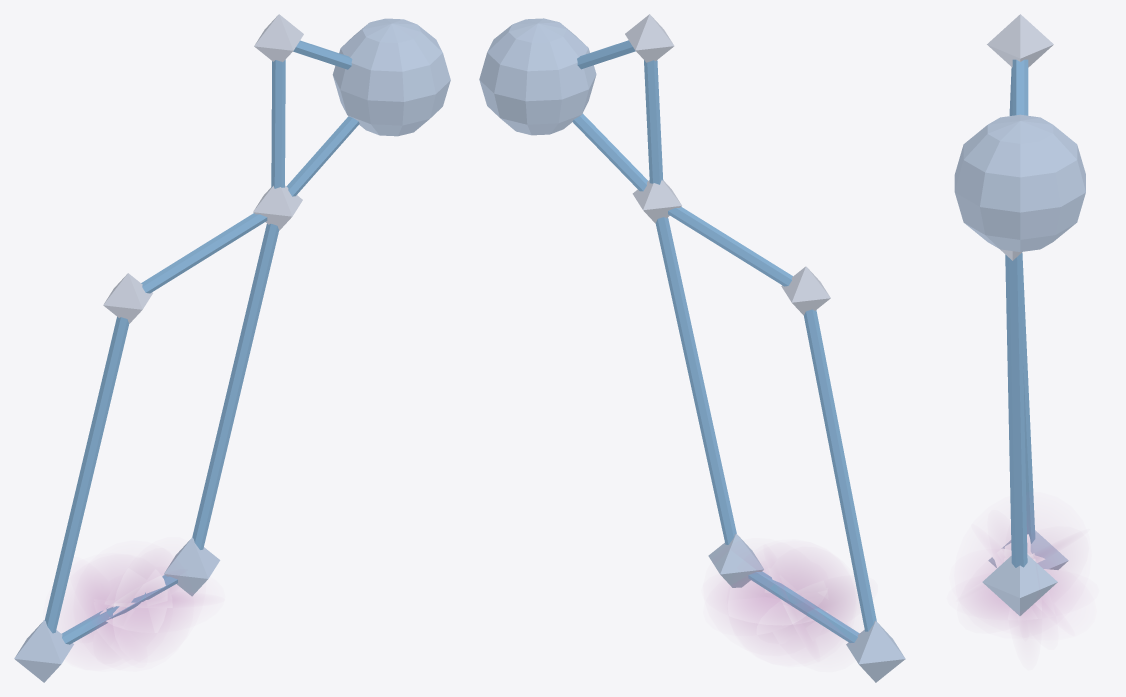
The model's file is constellation-lyr.glb.
3 renders of one model, left to right at view 1: azimuth 30°, elevation 25°; view 2: azimuth 150°, elevation 25°; view 3: azimuth 270°, elevation 25°, orthographic. The views are drawn at different scales.
Bounding box in the file's own units: 0.5767 × 0.812 × 0.1798.
